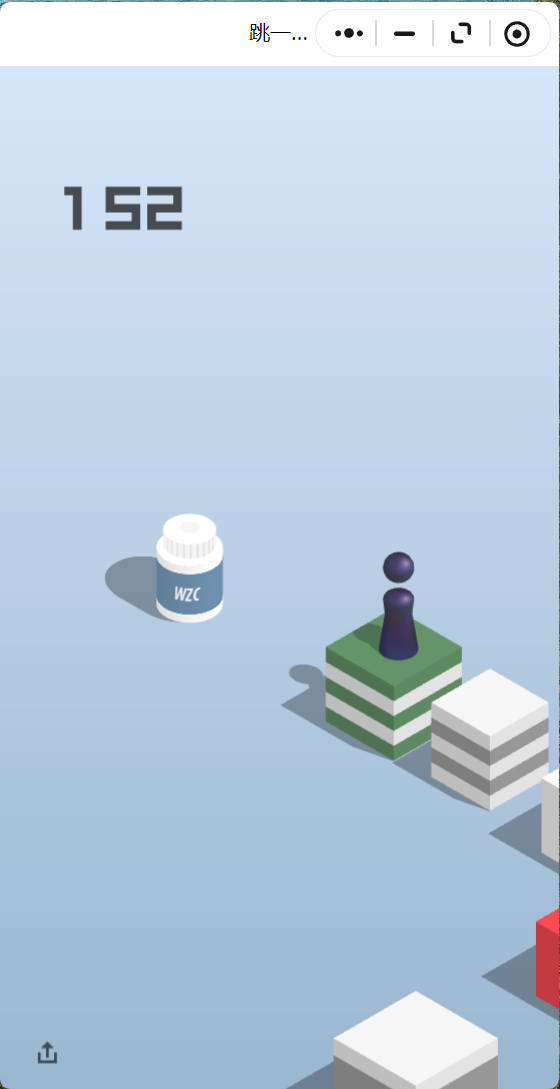piece: (383, 551, 414, 654)
target: (163, 513, 216, 546)
